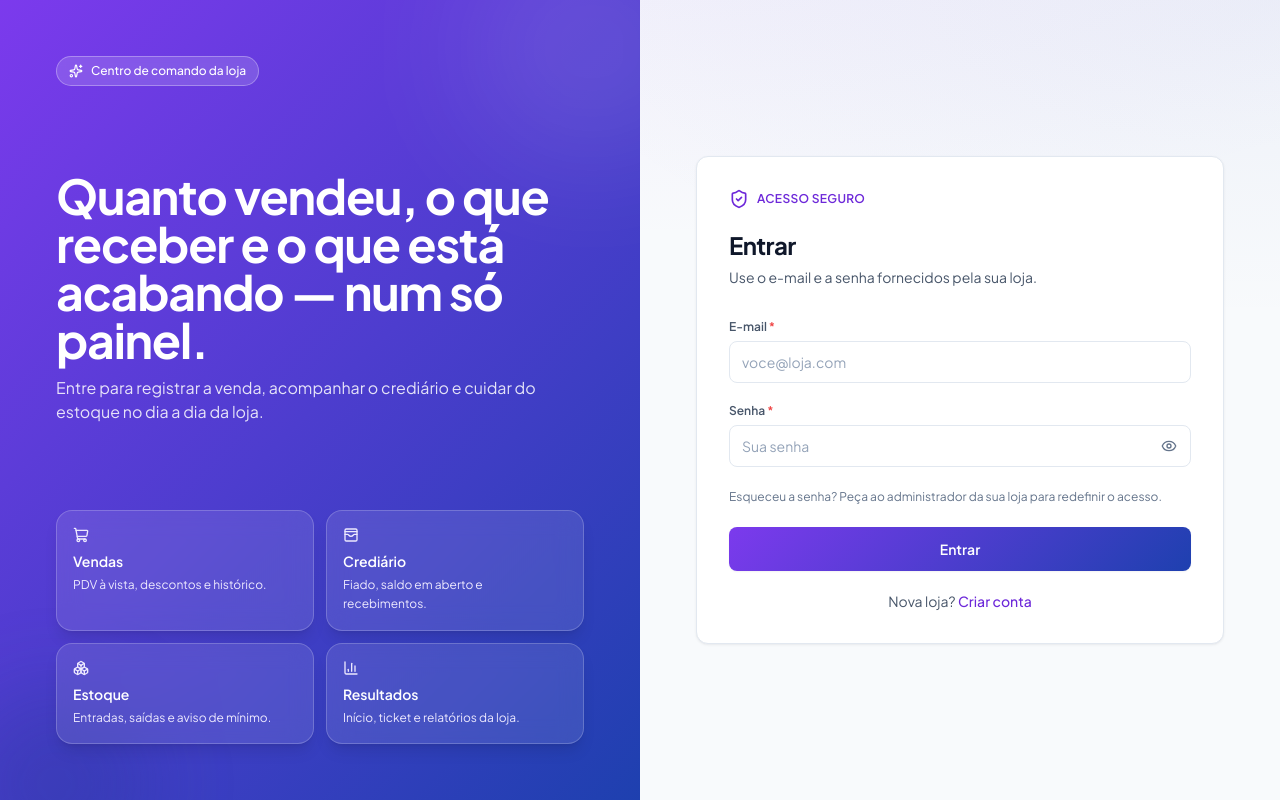
Test: LoginPage › pede CNPJ quando o codigo e TENANT_CNPJ_REQUIRED
This screenshot has width=1280, height=800.
Type "a@loja.com" into the field with placeholder "voce@loja.com" at (960, 362), box [729,341,1191,383]
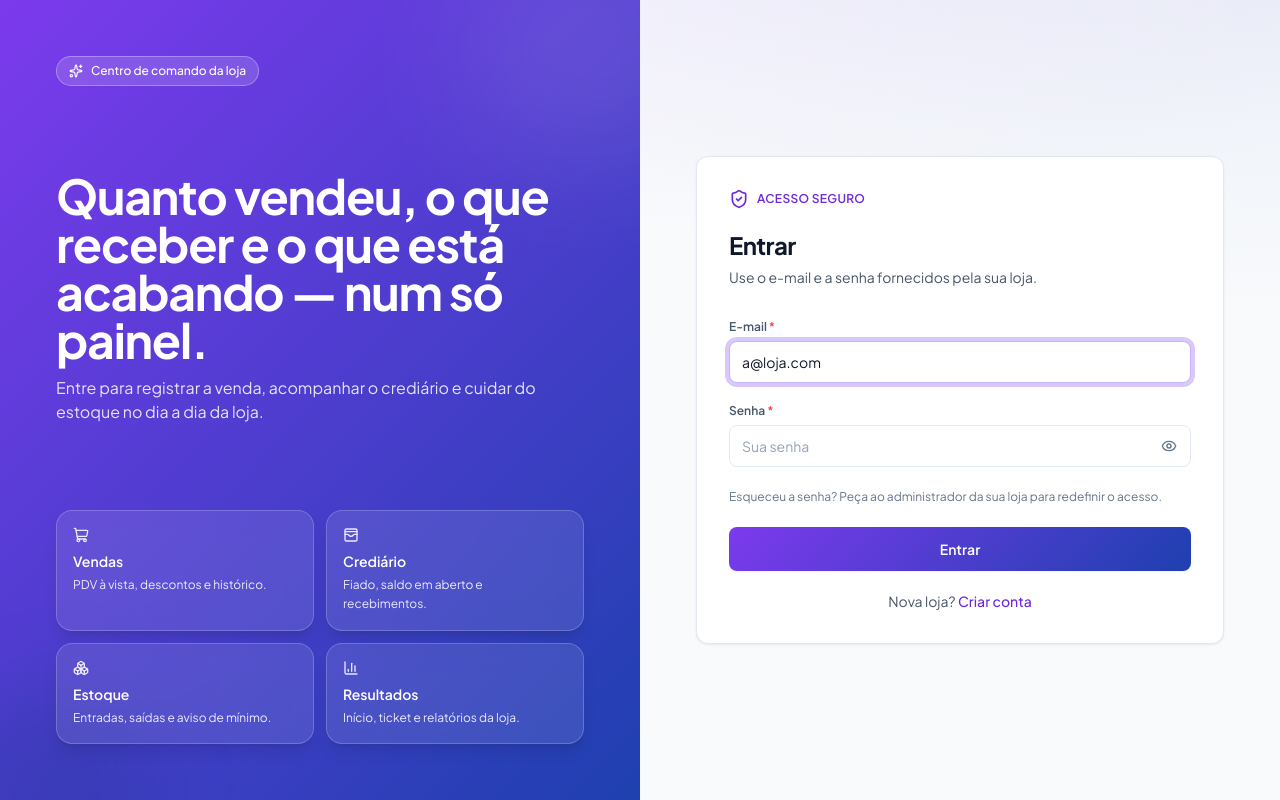
Type "senha123" into the password field with placeholder "Sua senha" at (960, 446), box [729,425,1191,467]
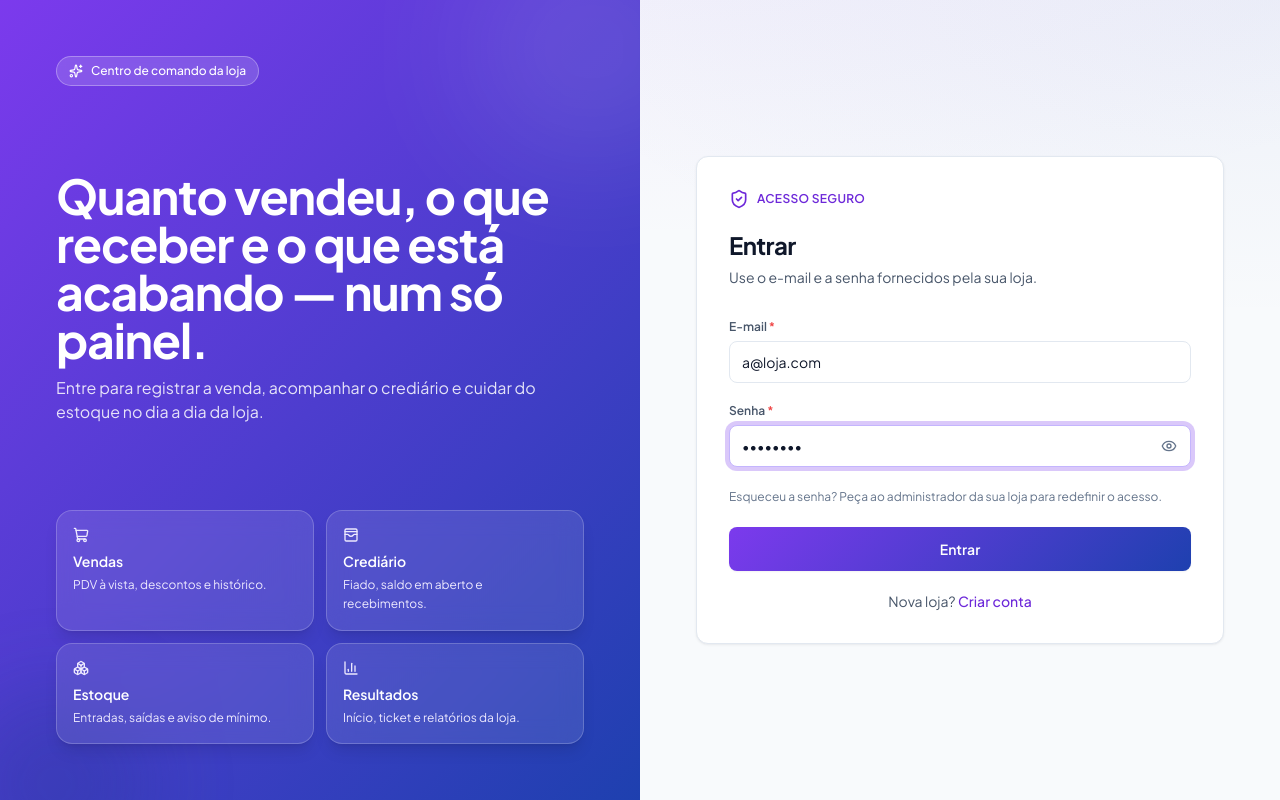
Click the button "Entrar" at (960, 549), box [729,527,1191,571]
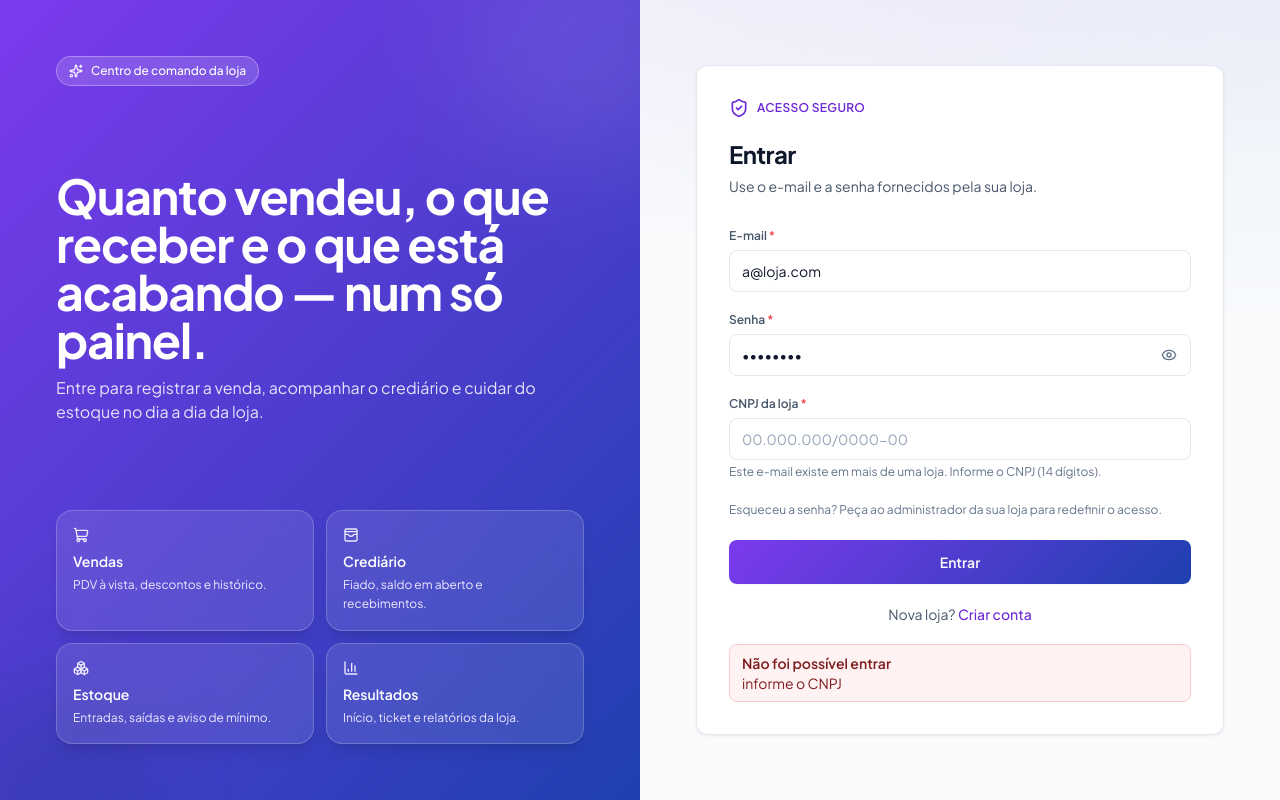
expect the field labelled "CNPJ da loja*" is shown: met, box [729,418,1191,460]
